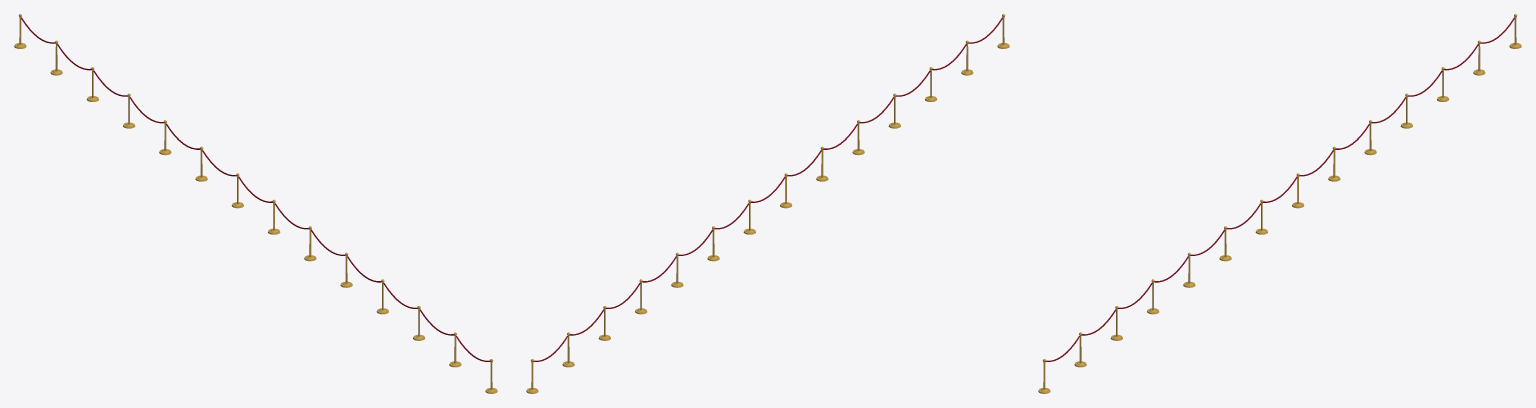
File: carpet-line.glb
3 renders of one model, left to right at view 1: azimuth 30°, elevation 25°; view 2: azimuth 150°, elevation 25°; view 3: azimuth 330°, elevation 25°, orthographic.
Bounding box in the file's own units: 0.34 × 0.9845 × 26.34.
